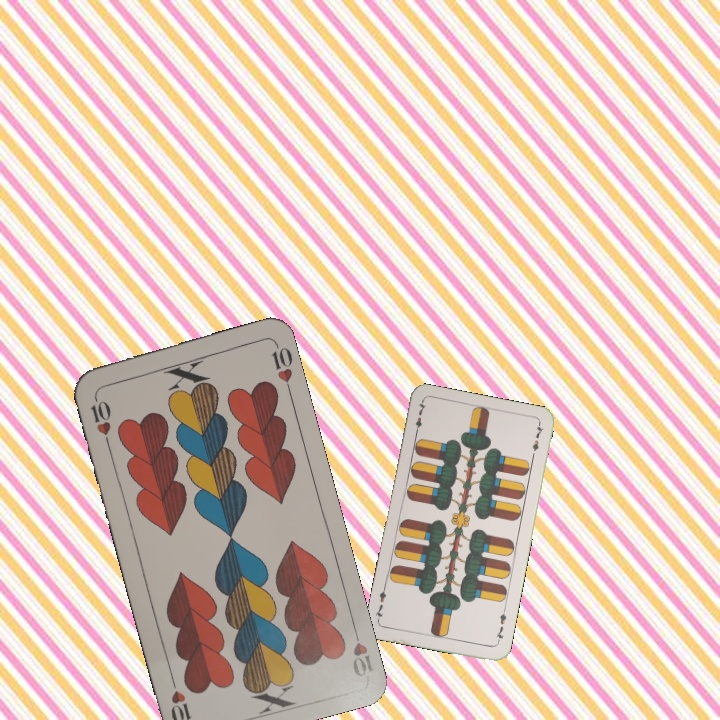E7: (411, 398, 429, 438), (492, 606, 509, 646)
H10: (348, 621, 376, 680), (87, 390, 114, 449)
